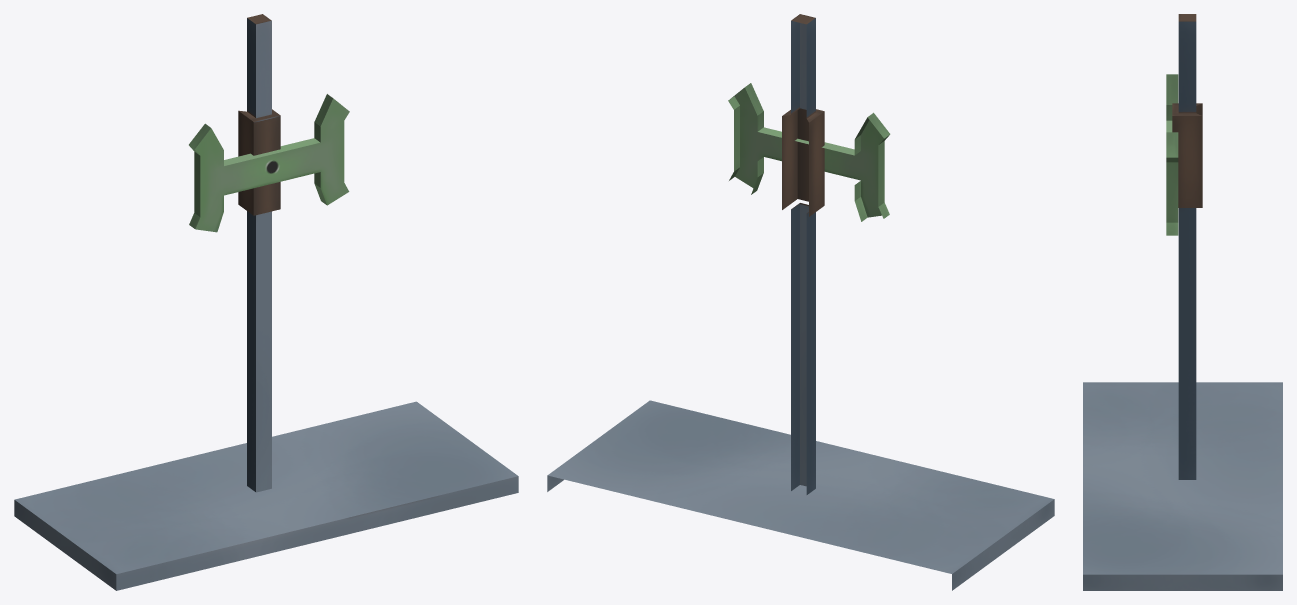
Rendered from SM_buret stand.FBX.
3 renders of one model, left to right at view 1: azimuth 30°, elevation 25°; view 2: azimuth 150°, elevation 25°; view 3: azimuth 270°, elevation 25°, orthographic. The views are drawn at different scales.
Visible parts, largest first — view 1: buret stand; view 2: buret stand; view 3: buret stand.
Part boxes in pixels (<box>): buret stand: <box>14,14,518,590</box>; buret stand: <box>547,14,1054,590</box>; buret stand: <box>1083,14,1282,590</box>.
Bounding box in the file's own units: 199 × 229 × 87.27.
Materials: 1 (1 with a texture image).
